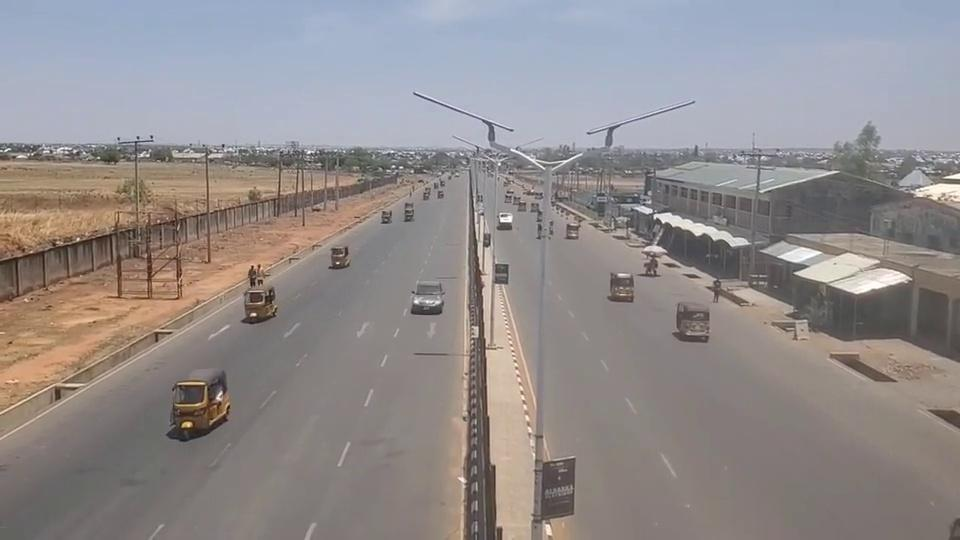car: (410, 279, 446, 315)
keke: (168, 367, 230, 437), (675, 301, 710, 341), (243, 285, 278, 321), (609, 272, 634, 302), (330, 246, 351, 269), (381, 209, 392, 224)
